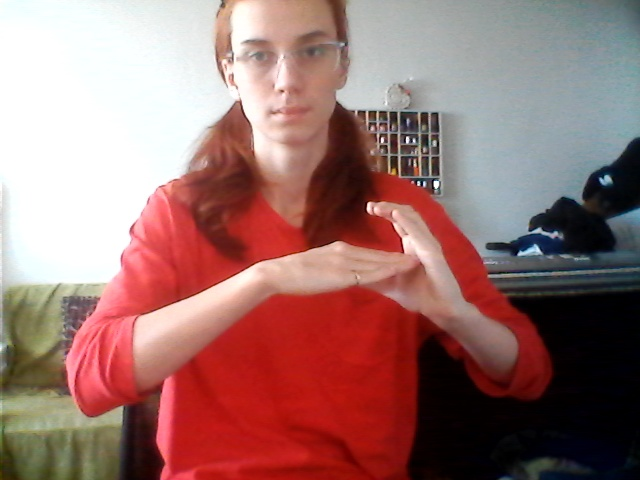e: (293, 196, 461, 337)
